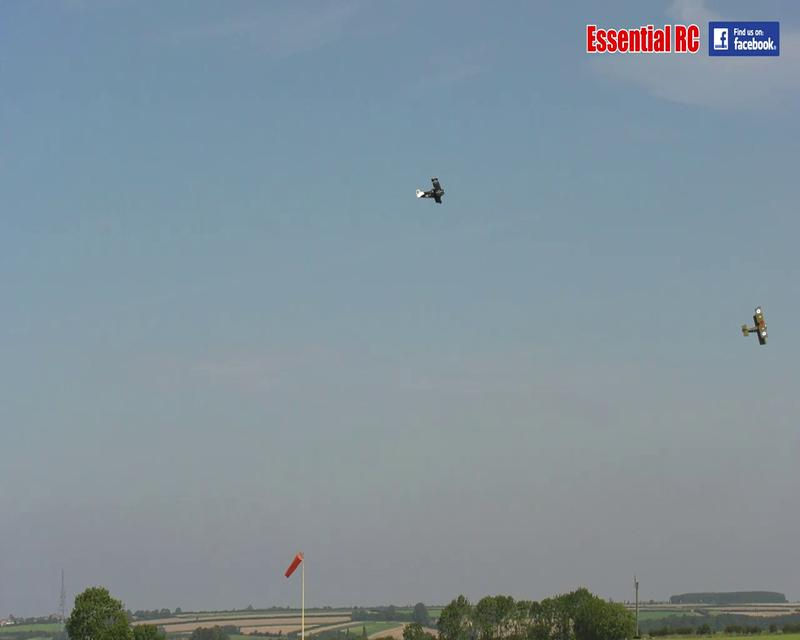UAV: (741, 304, 771, 344), (412, 177, 448, 204)
